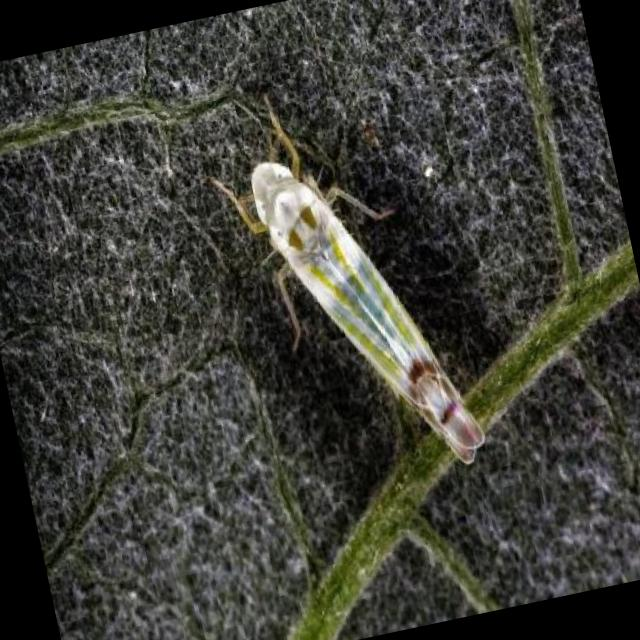green-leafhopper: (210, 95, 488, 467)
